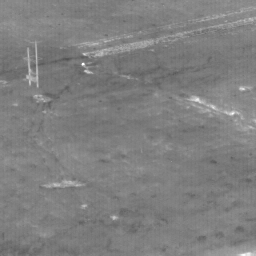aircraft: (82, 64, 84, 66)
